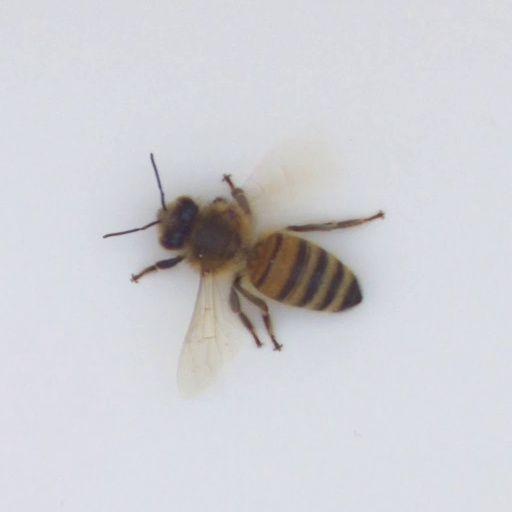Bee: (152, 195, 355, 312)
Thorax: (176, 200, 252, 272)
